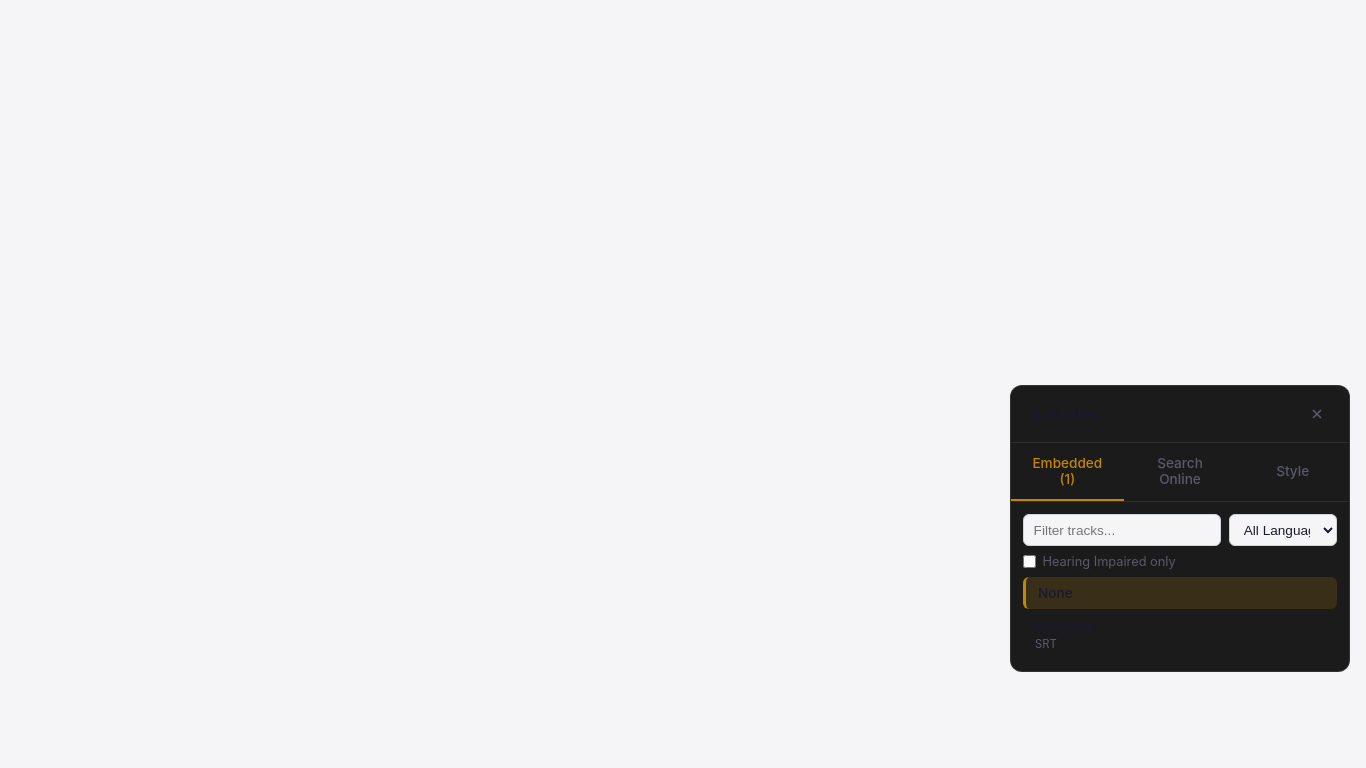
SubtitleSearchPanel › renders search results returned by the service
Click the button "Search Online" at {"x": 1180, "y": 472}, box [1124,443,1236,501]
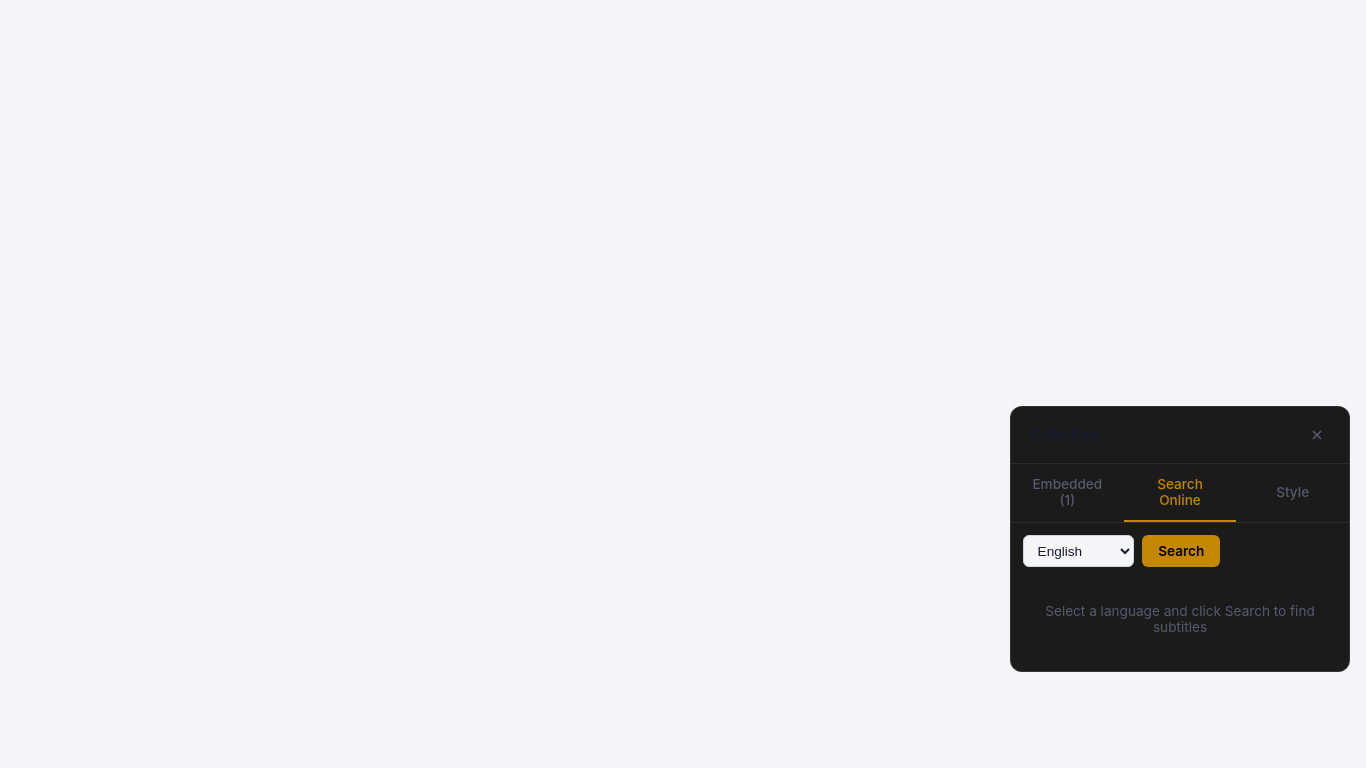
Click the button "Search" at {"x": 1181, "y": 551}, box [1142,535,1220,567]
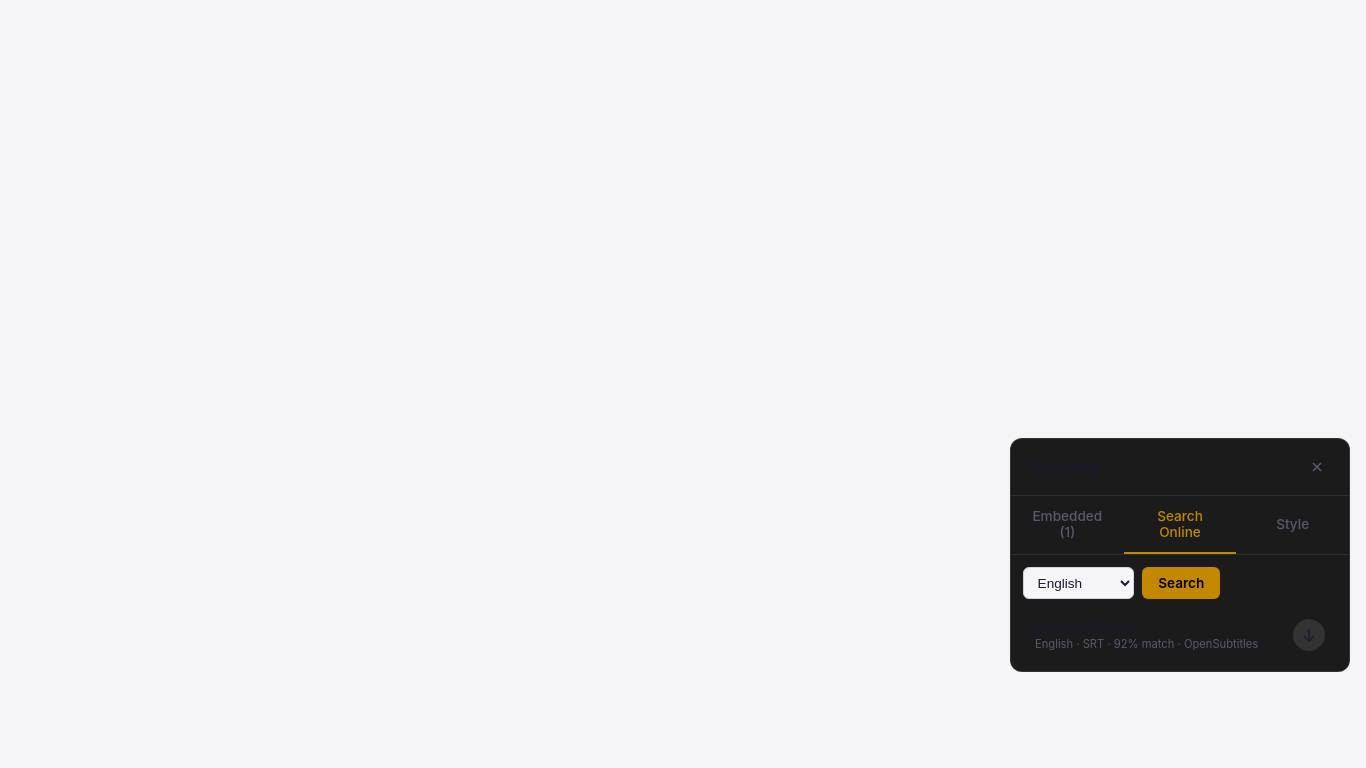
Now the text "English · SRT · 92% match · OpenSubtitles" is shown, box [1035,637,1285,651]
